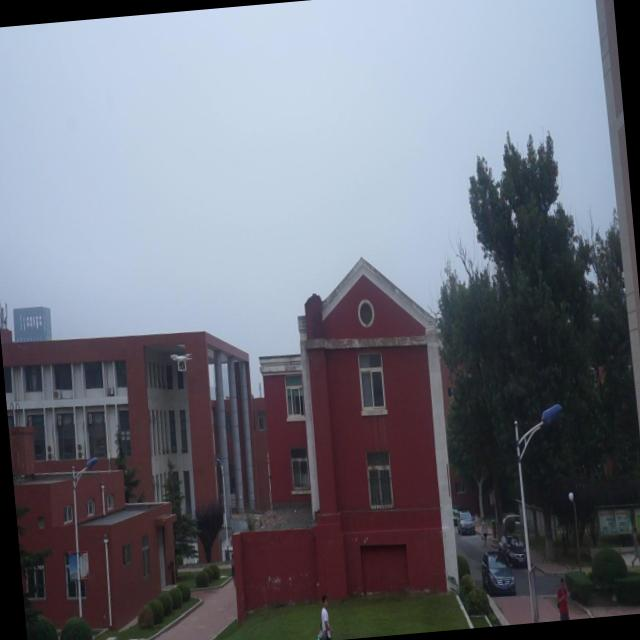drone: (167, 346, 194, 376)
